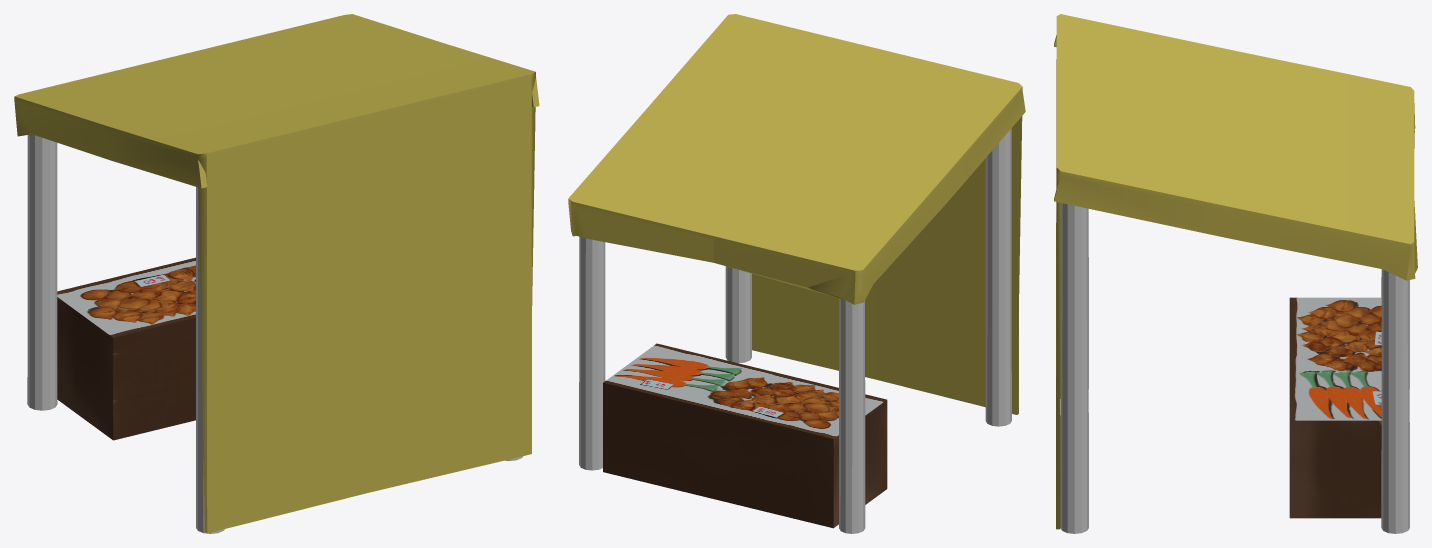
File: tentoki_yasai.fbx
3 views of the same model, side by side, from view 1: azimuth 30°, elevation 25°; view 2: azimuth 150°, elevation 25°; view 3: azimuth 270°, elevation 25° (orthographic). The views are drawn at different scales.
Parts seen in each view (by area): view 1: pPlane4, pPlane1, pCube1, pCylinder4, pCylinder1; view 2: pPlane4, pPlane1, pCube1, pCylinder1, pCylinder4, pCylinder3, pCylinder2; view 3: pPlane4, pPlane1, pCube1, pCylinder2, pCylinder3.
Boxes of the visible parts, x1,y1,x2,y2 form: pPlane4: [14, 14, 539, 526]; pPlane1: [14, 55, 368, 533]; pCube1: [57, 257, 195, 440]; pCylinder4: [27, 134, 57, 410]; pCylinder1: [196, 187, 224, 533]; pPlane4: [568, 14, 1025, 408]; pPlane1: [715, 48, 1022, 414]; pCube1: [603, 343, 887, 528]; pCylinder1: [985, 128, 1011, 426]; pCylinder4: [839, 298, 865, 533]; pCylinder3: [579, 236, 605, 470]; pCylinder2: [725, 266, 751, 363]; pPlane4: [1054, 35, 1417, 529]; pPlane1: [1054, 14, 1415, 343]; pCube1: [1289, 297, 1381, 518]; pCylinder2: [1060, 203, 1088, 533]; pCylinder3: [1381, 269, 1409, 533].
Size of the model in its own units: 1.04 by 1.13 by 1.02.
